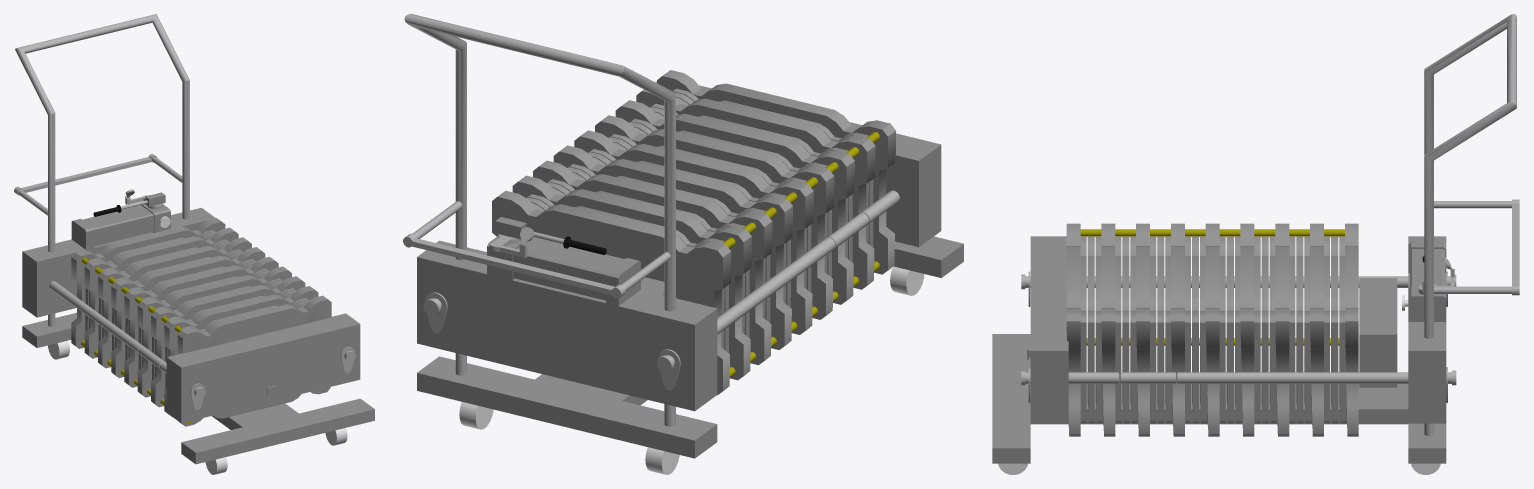
Rendered from Sartoclear_DepthFilter.FBX.
The picture shows the model from 3 angles, left to right: view 1: azimuth 30°, elevation 25°; view 2: azimuth 150°, elevation 25°; view 3: azimuth 270°, elevation 25°; orthographic projection. The views are drawn at different scales.
Parts seen in each view (by area): view 1: Box023, Box058, Box061, Line022, Box059, Sartoclear, Cylinder039, Cylinder042, Box038, Box042, Box054, Box050 (+3 smaller); view 2: Box023, Box059, Box061, Line022, Sartoclear, Box058, Cylinder039, Cylinder042, Box024, Box045, Box033, Box037 (+9 smaller); view 3: Box023, Box061, Box058, Line022, Cylinder040, Box059, Box057, Sartoclear, Cylinder042, Box051, Box031, Box047 (+23 smaller).
Boxes of the visible parts, x1,y1,x2,y2 form: Box023: (71,218,331,426); Box058: (166,313,360,423); Box061: (22,312,374,464); Line022: (15,14,189,326); Box059: (22,207,214,317); Sartoclear: (71,192,170,249); Cylinder039: (49,281,205,409); Cylinder042: (14,154,182,215); Box038: (138,268,268,369); Box042: (125,259,254,360); Box054: (85,230,214,331); Box050: (98,239,228,340); Box023: (492,70,895,395); Box059: (417,240,717,411); Box061: (417,236,963,458); Line022: (404,14,675,426); Sartoclear: (487,217,640,306); Box058: (655,81,941,247); Cylinder039: (656,190,899,390); Cylinder042: (403,201,670,298); Box024: (673,88,873,247); Box045: (569,164,770,322); Box033: (631,118,831,277); Box037: (610,134,811,292); Box023: (1066,223,1358,436); Box061: (992,334,1446,463); Box058: (1030,236,1068,423); Line022: (1424,14,1516,435); Cylinder040: (1021,367,1456,402); Box059: (1408,236,1446,423); Box057: (1359,278,1397,387); Sartoclear: (1408,242,1446,321); Cylinder042: (1434,199,1519,295); Box051: (1331,237,1338,423); Box031: (1157,237,1164,423); Box047: (1296,237,1303,423).
Bounding box in the file's own units: 120 × 184 × 234.
